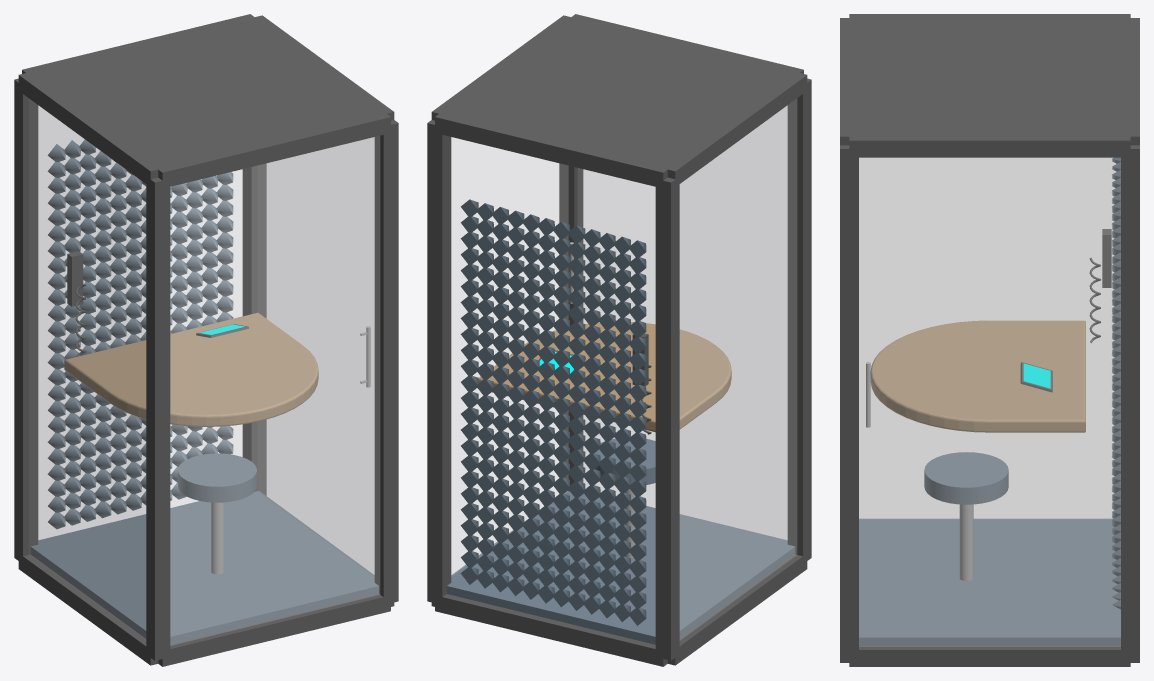
File: build-a-phone-booth.gltf
The picture shows the model from 3 angles, left to right: view 1: azimuth 30°, elevation 25°; view 2: azimuth 150°, elevation 25°; view 3: azimuth 270°, elevation 25°; orthographic projection. The views are drawn at different scales.
Bounding box in the file's own units: 1.28 × 2.48 × 1.28.
